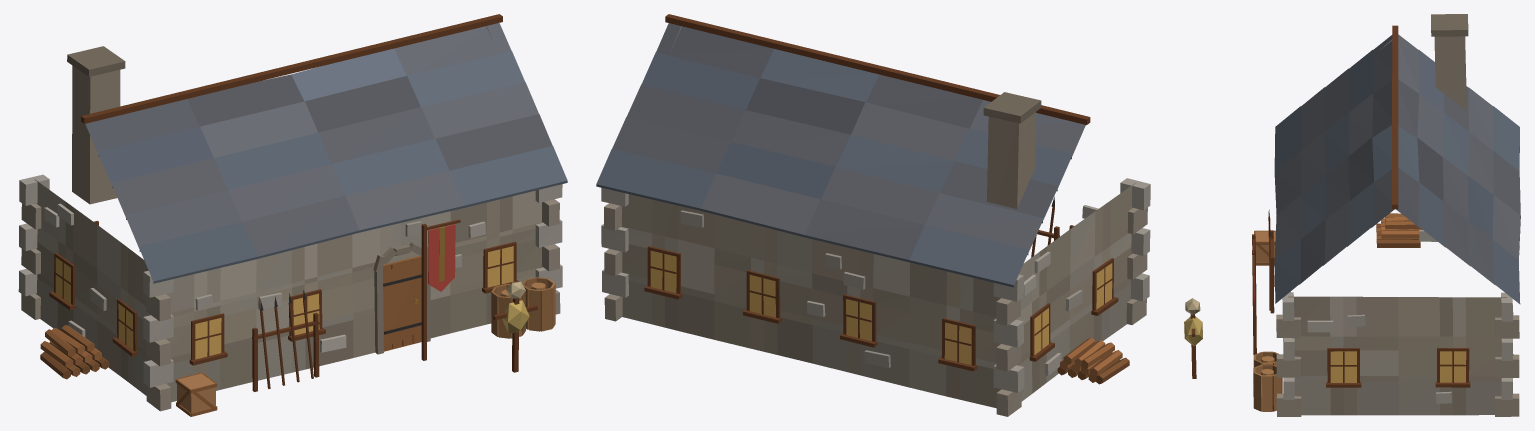
Rendered from barracks.glb.
3 views of the same model, side by side, from view 1: azimuth 30°, elevation 25°; view 2: azimuth 150°, elevation 25°; view 3: azimuth 270°, elevation 25° (orthographic). The views are drawn at different scales.
Parts seen in each view (by area): view 1: buildings/barracks; view 2: buildings/barracks; view 3: buildings/barracks.
Boxes of the visible parts, x1=… form: buildings/barracks: x1=18, y1=14, x2=567, y2=416; buildings/barracks: x1=596, y1=14, x2=1150, y2=416; buildings/barracks: x1=1184, y1=14, x2=1520, y2=416.
Size of the model in its own units: 10.41 by 6.07 by 7.73.
